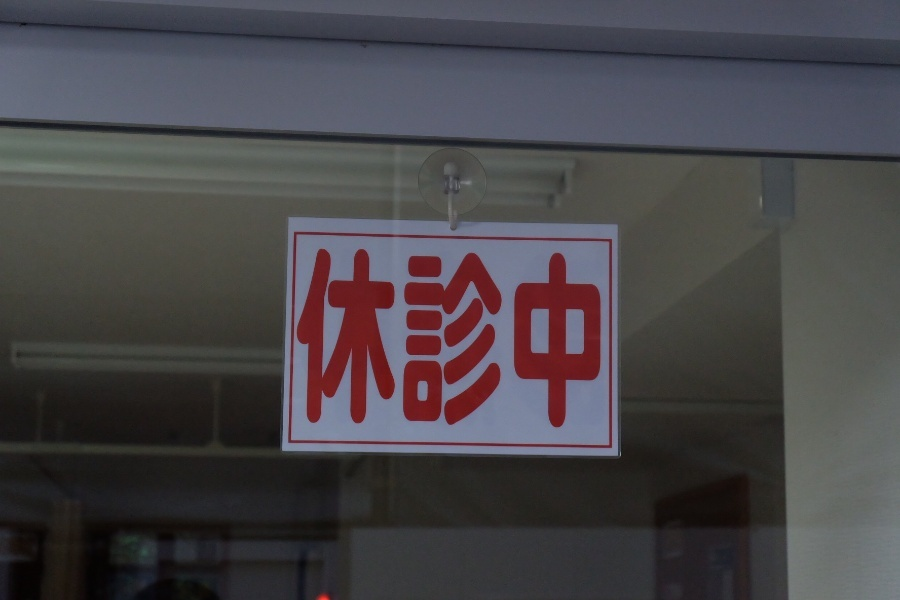text: (321, 246, 336, 431), (337, 246, 352, 431), (353, 246, 368, 431), (369, 246, 384, 431), (385, 246, 400, 431), (401, 246, 416, 431), (417, 246, 432, 431), (433, 246, 448, 431), (449, 246, 464, 431), (465, 246, 480, 431), (481, 246, 496, 431), (497, 246, 512, 431), (513, 246, 528, 431), (529, 246, 544, 431), (545, 246, 560, 431), (561, 246, 576, 431), (577, 246, 592, 431), (593, 246, 604, 431), (313, 246, 320, 431)
